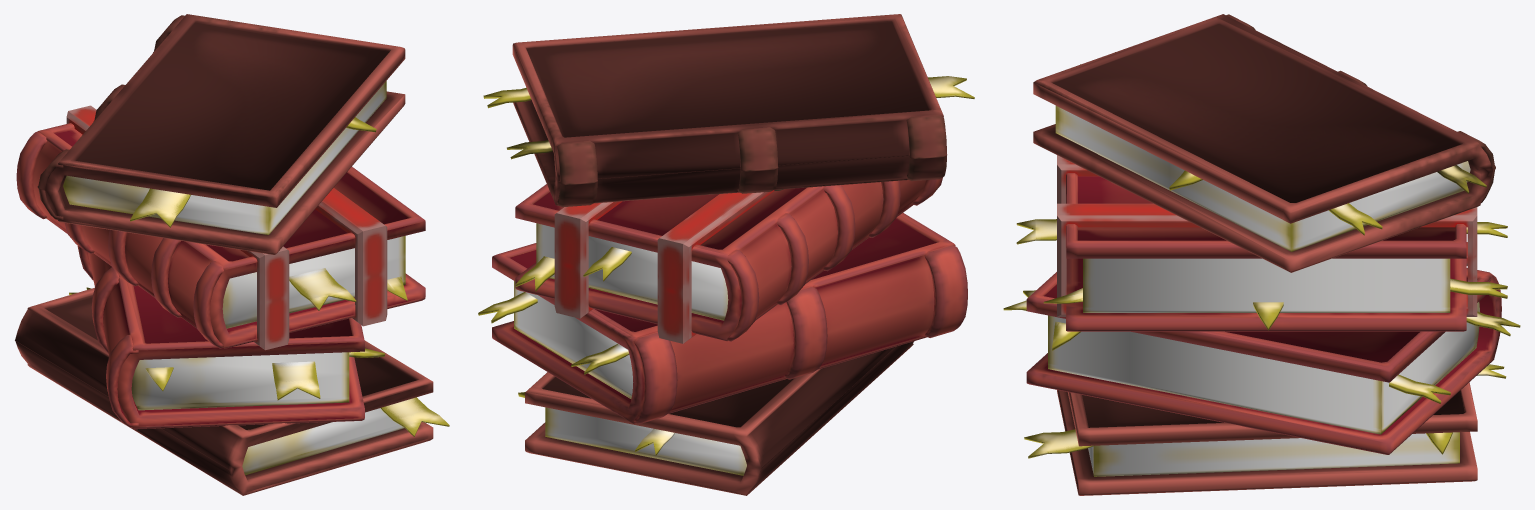
Rendered from book_comb_hor_10_bl.fbx.
The picture shows the model from 3 angles, left to right: view 1: azimuth 30°, elevation 25°; view 2: azimuth 150°, elevation 25°; view 3: azimuth 270°, elevation 25°; orthographic projection. The views are drawn at different scales.
Visible parts, largest first — view 1: Book 5.008; view 2: Book 5.008; view 3: Book 5.008.
Boxes of the visible parts, x1,y1,x2,y2 form: Book 5.008: [15, 14, 449, 495]; Book 5.008: [478, 14, 974, 495]; Book 5.008: [1003, 14, 1520, 495].
Bounding box in the file's own units: 579 × 432 × 624.
